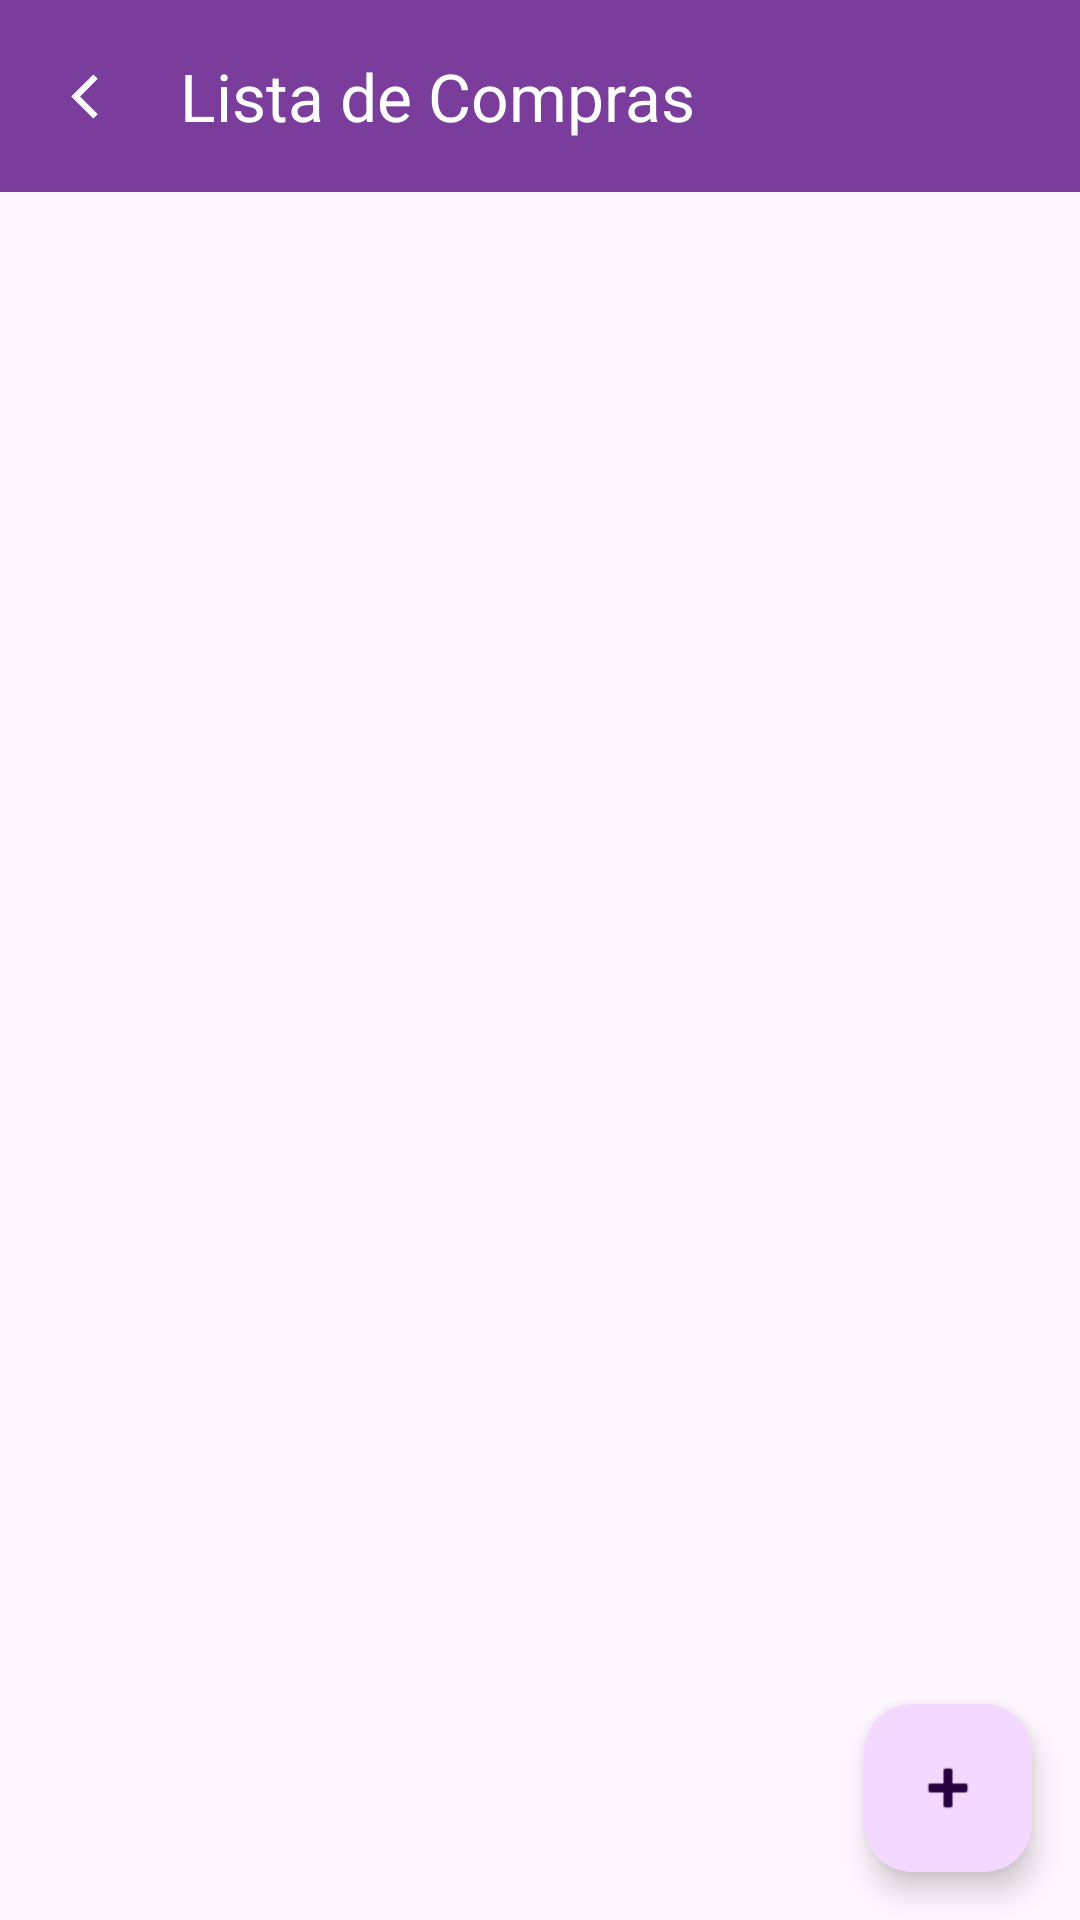

Point at icon controls on the screen. Image size 1080px x 1920px, points as [x,y].
Adicionar item à lista: [948,1788]
